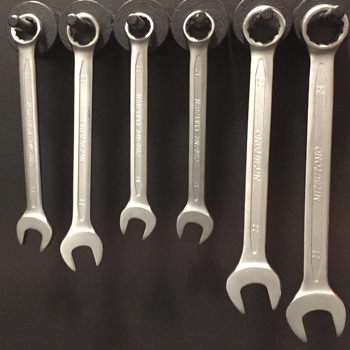bottom: (283, 287, 347, 343), (224, 263, 282, 315), (58, 225, 104, 272), (14, 209, 56, 253), (116, 198, 157, 242), (174, 204, 215, 247)
top: (299, 2, 349, 55), (240, 3, 287, 50), (63, 9, 102, 50), (180, 7, 219, 45), (8, 11, 45, 48), (123, 9, 157, 44)
